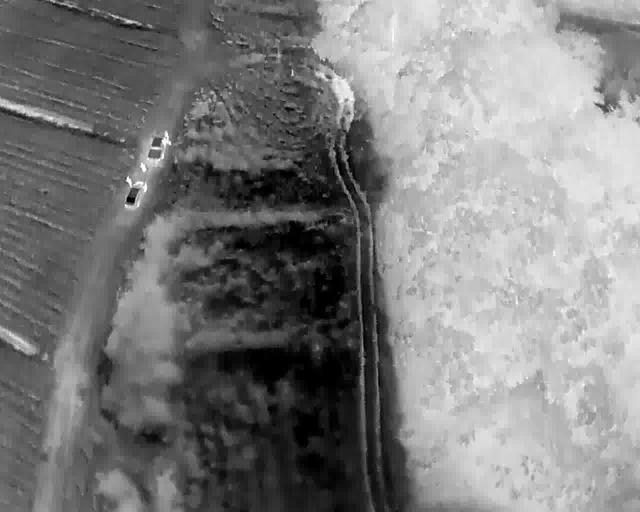car: (124, 180, 147, 208), (147, 136, 171, 160)
person: (126, 175, 132, 187), (140, 162, 145, 171), (164, 131, 168, 139)
